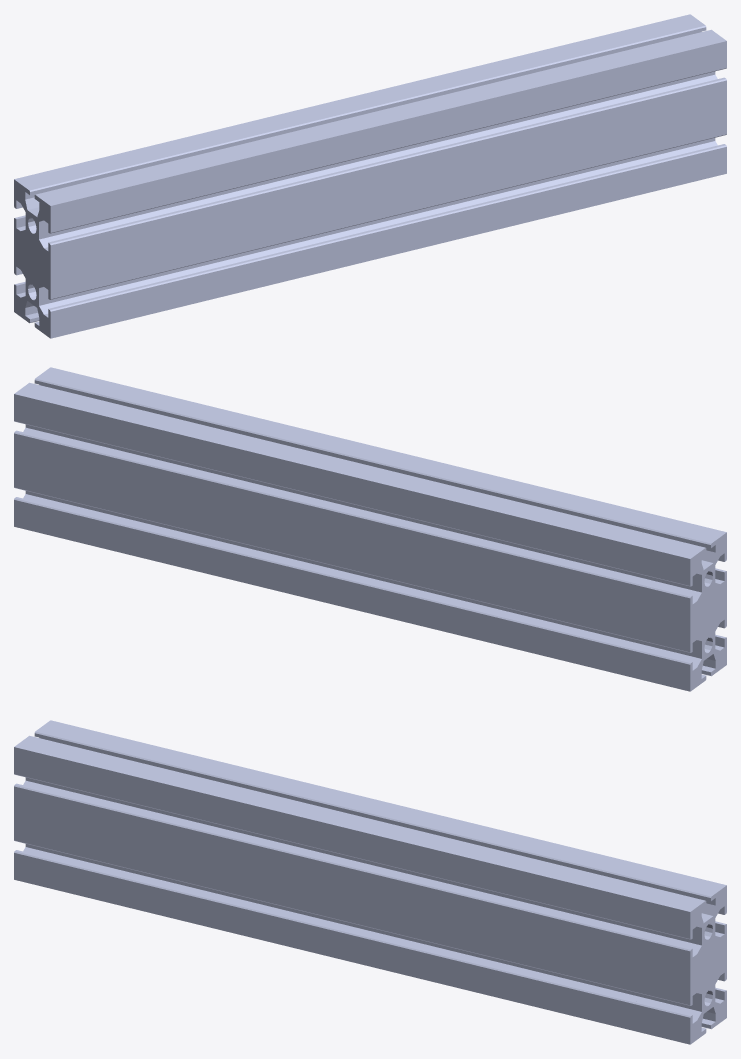
The model's file is suporte_kinect_mesh.dae.
3 views of the same model, one above another, from view 1: azimuth 30°, elevation 25°; view 2: azimuth 150°, elevation 25°; view 3: azimuth 330°, elevation 25° (orthographic).
Visible parts, largest first — view 1: suporte_kinect; view 2: suporte_kinect; view 3: suporte_kinect.
Part boxes in pixels (bbox=[...]): suporte_kinect: bbox=[14, 14, 726, 338]; suporte_kinect: bbox=[14, 367, 726, 691]; suporte_kinect: bbox=[14, 720, 726, 1044].
Bounding box in the file's own units: 0.32 × 0.06 × 0.03.
